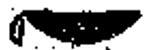Basket: (5, 6, 143, 48)
